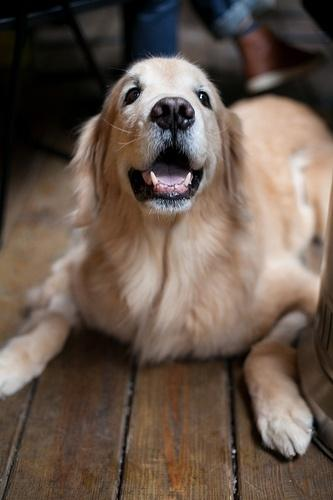dog: (0, 57, 332, 456)
